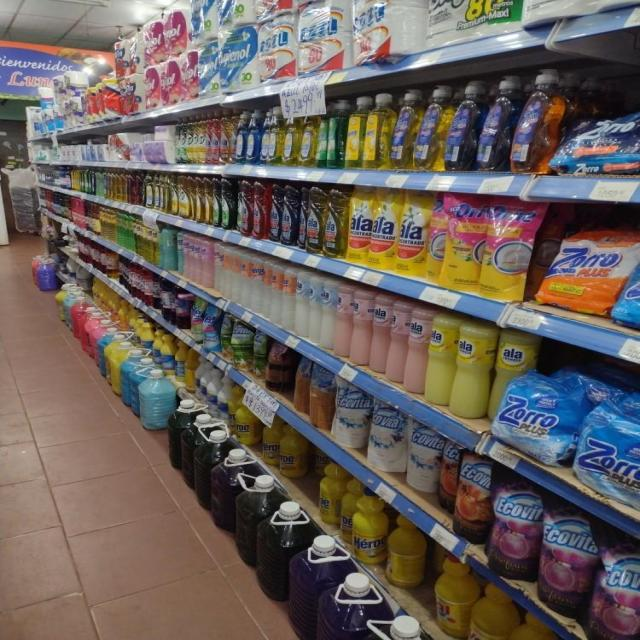ala_conc_amarillo: (325, 185, 346, 259), (305, 184, 325, 254)
ala_conc_azul: (282, 183, 299, 247)
ala_crem_amarillo: (453, 319, 492, 420), (427, 309, 453, 408)
ala_crem_blanco: (321, 276, 334, 352), (308, 273, 320, 345)
ala_crem_rosado: (405, 302, 427, 396), (388, 295, 406, 385), (350, 286, 370, 366), (370, 292, 387, 375), (334, 282, 350, 359)
ala_sachet_amarillo: (396, 188, 426, 277), (370, 187, 395, 271), (348, 185, 370, 266)
magistral_con_azul: (247, 110, 260, 165)
